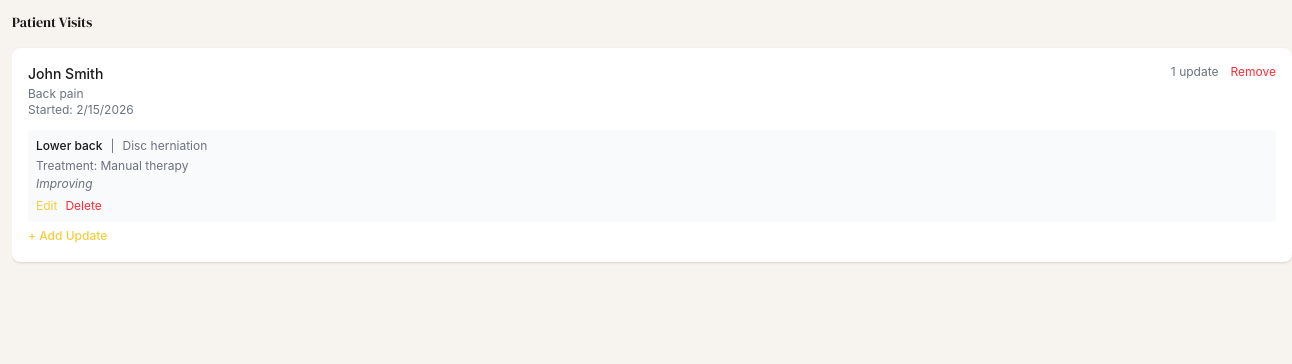
Test: Treatment categorisation on blur — Inline edit form › inline edit field updates with rewritten text after blur
This screenshot has width=1292, height=364.
Click the button with test id "edit-update-cu1": point(47, 206) [36,198,57,214]
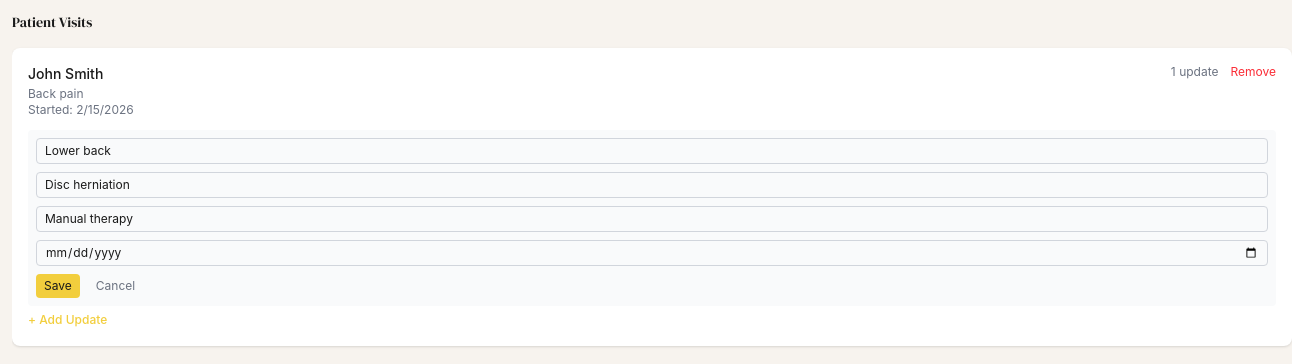
Replace the text in the field with test id "treatment-edit-input-cu1" with "post-op rehab exercises": point(652, 219) [36,206,1268,232]
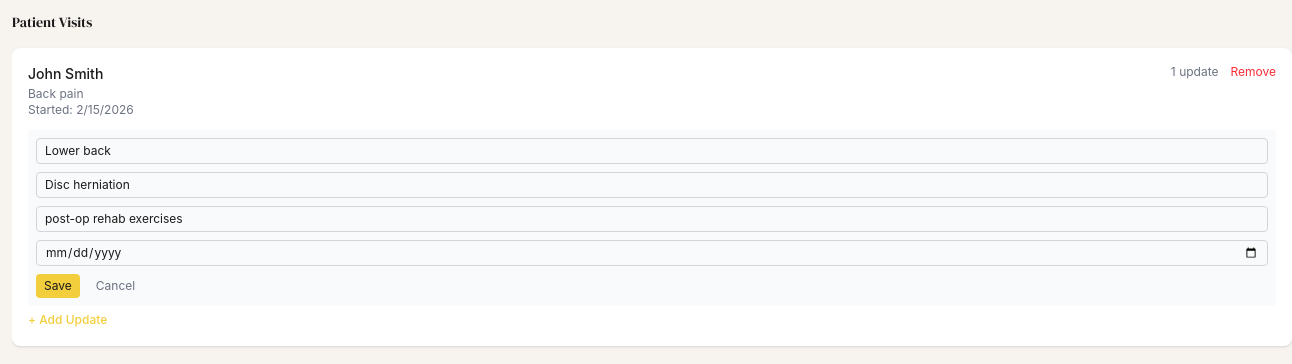
Leave the field with test id "treatment-edit-input-cu1", box [36,206,1268,232]
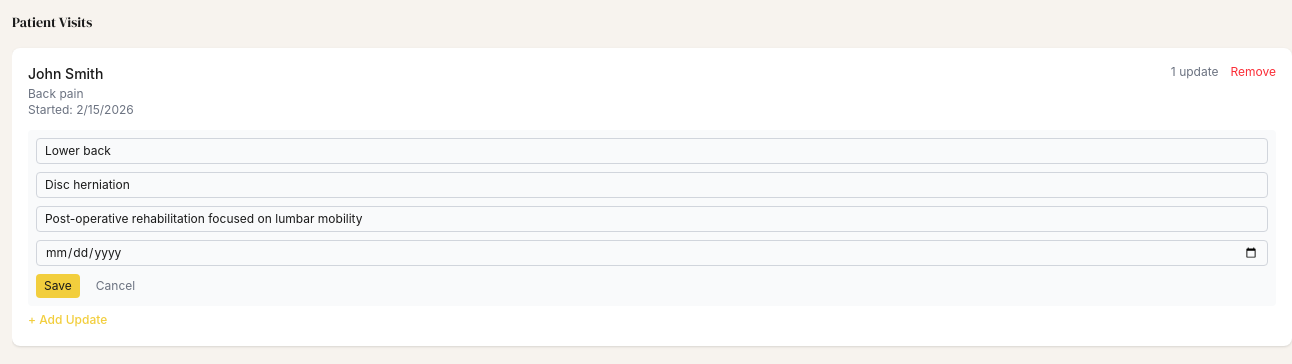
expect the field showing "Post-operative rehabilitation focused on lumbar mobility" is shown: met, box [36,206,1268,232]
